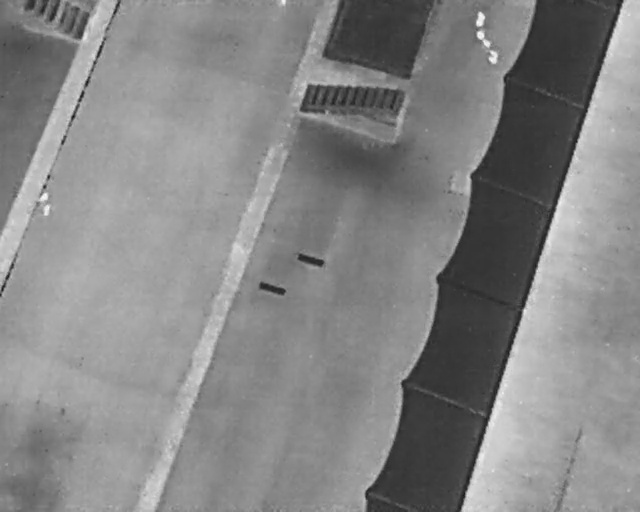Person: (37, 191, 54, 219)
